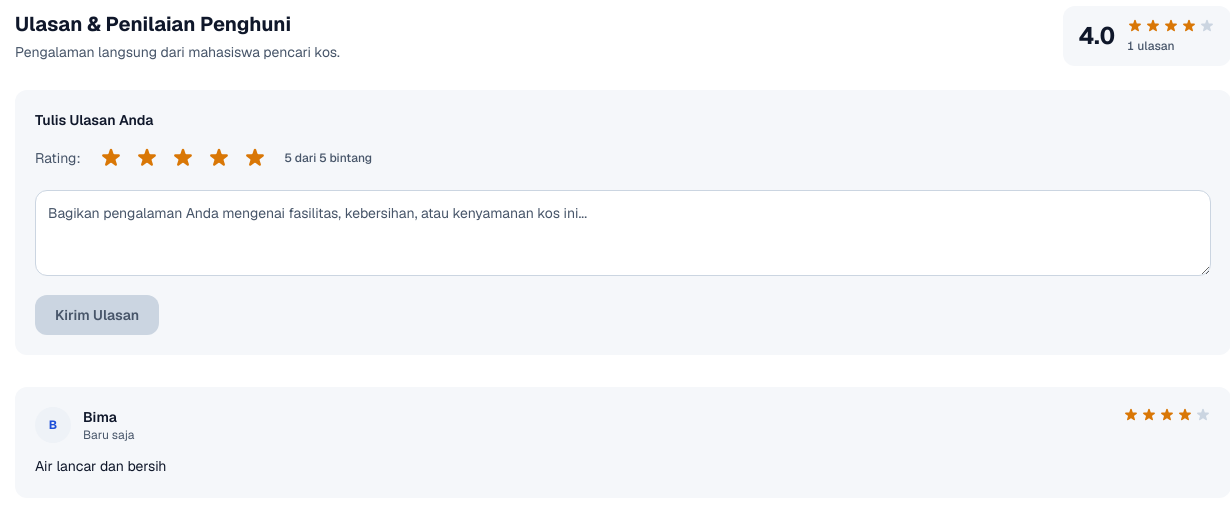
Scenario: BookingModal and ReviewSection UI integration tests › ReviewSection loads reviews via useReview, lets PENCARI_KOS pick rating and submit review
Expected: the text "Air lancar dan bersih" is shown, top-left (35, 457), bottom-right (166, 475)
Expected: the text "1 ulasan" is shown, top-left (1127, 38), bottom-right (1175, 54)
Step 1. Click the button named "Beri rating 4 dari 5 bintang" → {"x": 219, "y": 158}, box top-left (203, 142), bottom-right (235, 174)
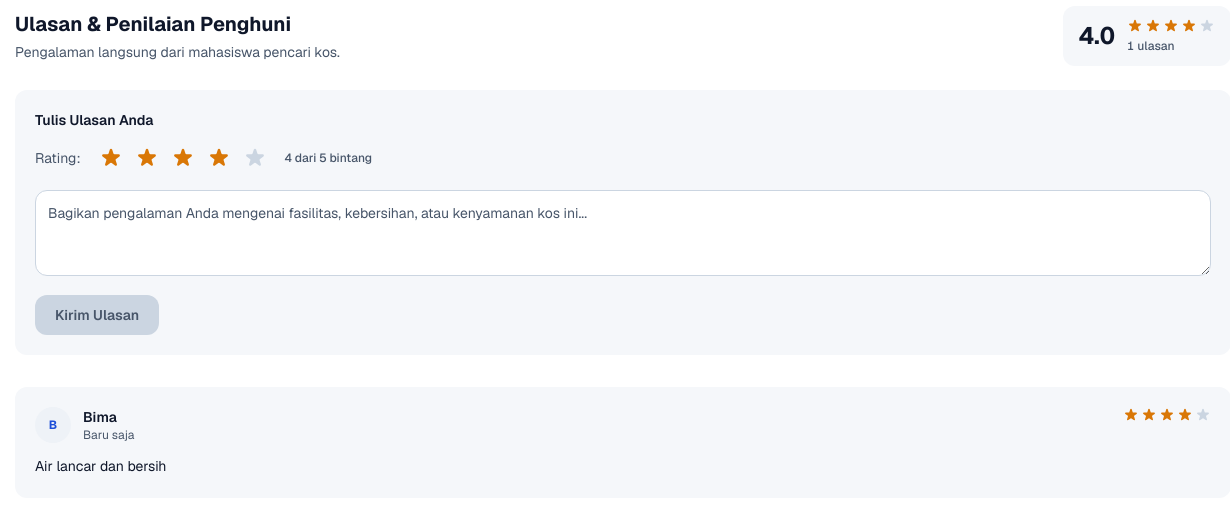
Step 2. Replace the text in the text box named "Komentar ulasan kos" with "Sangat nyaman dekat kampus" → {"x": 623, "y": 233}, box top-left (35, 190), bottom-right (1211, 276)
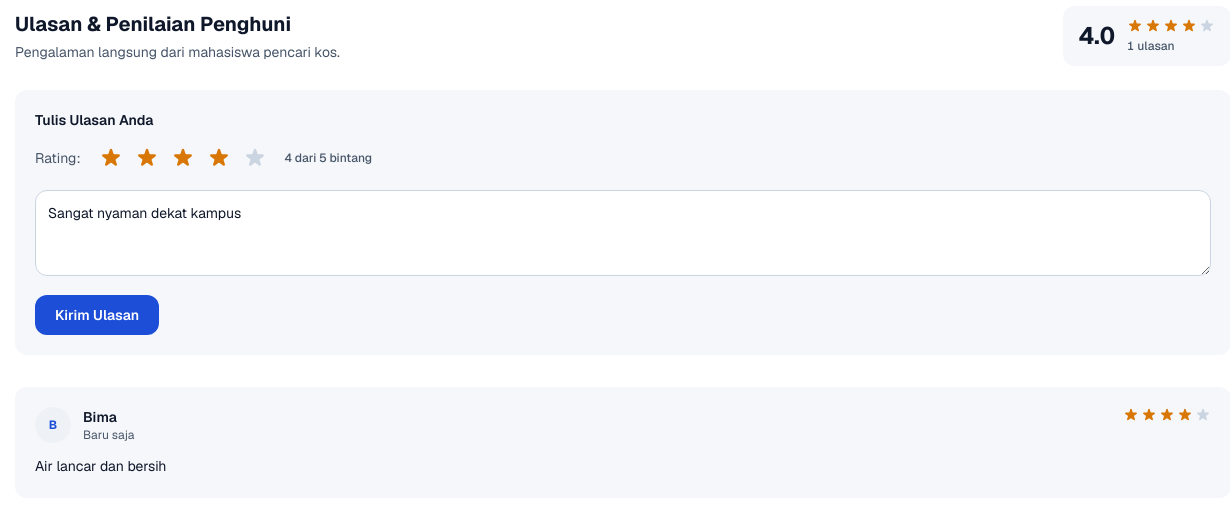
Step 3. Click the button "Kirim Ulasan" → {"x": 97, "y": 315}, box top-left (35, 295), bottom-right (159, 335)
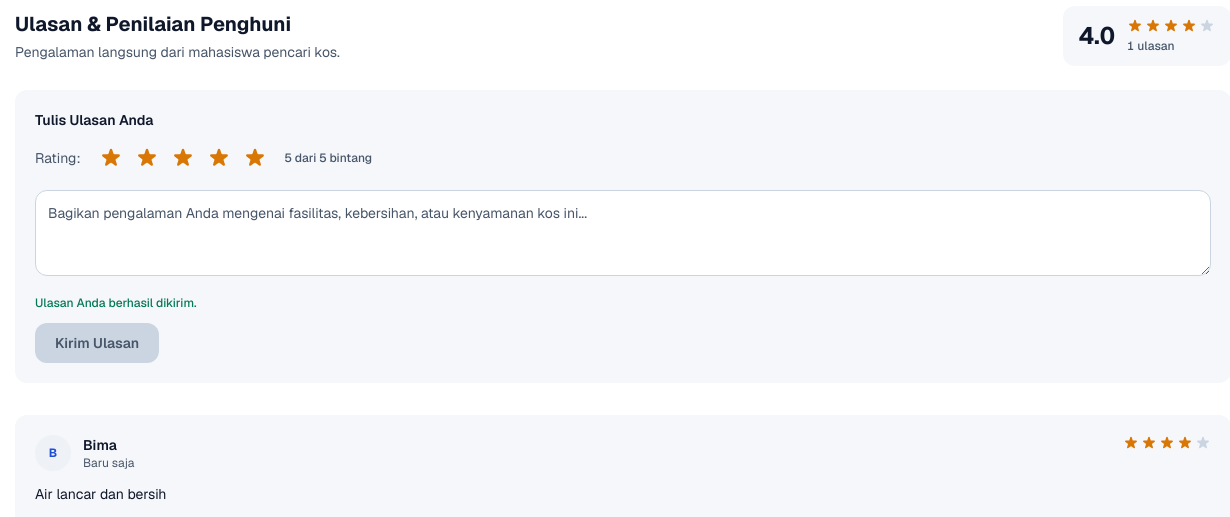
Expected: the text "Ulasan Anda berhasil dikirim." is shown, top-left (35, 295), bottom-right (197, 311)
